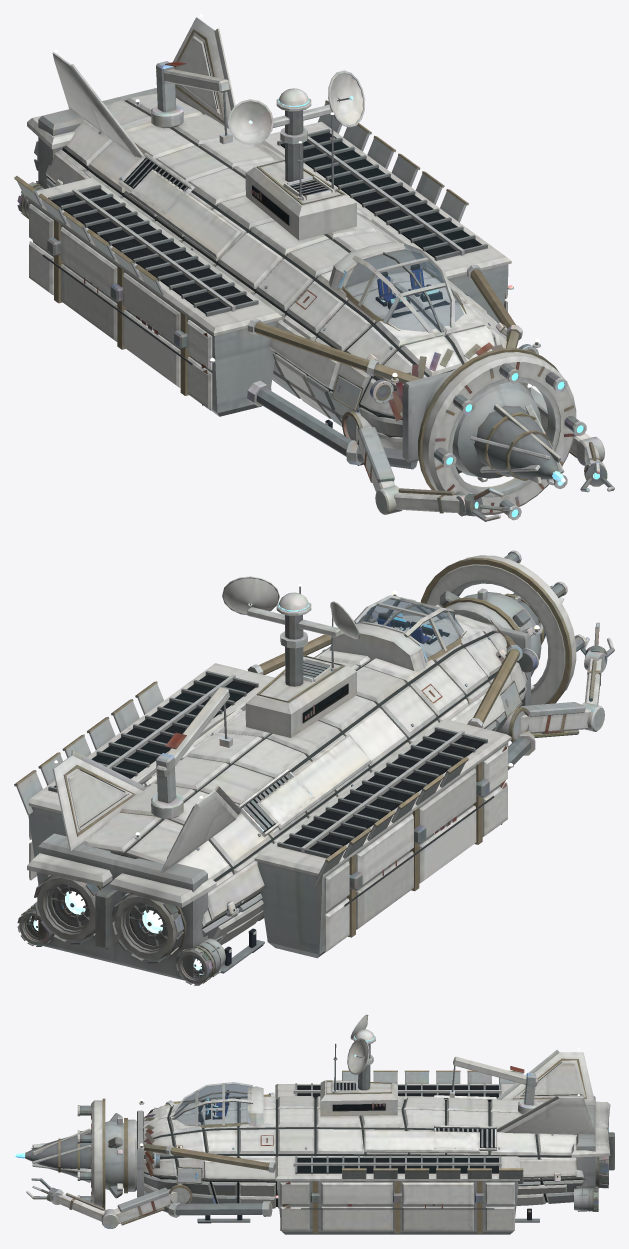
File: prospector_miner.glb
3 renders of one model, top to bottom at view 1: azimuth 30°, elevation 25°; view 2: azimuth 150°, elevation 25°; view 3: azimuth 270°, elevation 25°, orthographic. The views are drawn at different scales.
Parts seen in each view (by area): view 1: prospector_miner_hull, prospector_miner_glass; view 2: prospector_miner_hull, prospector_miner_glass, prospector_miner_plasma; view 3: prospector_miner_hull, prospector_miner_glass.
Part boxes in pixels (bbox=[...]): prospector_miner_hull: bbox=[14, 14, 614, 521]; prospector_miner_glass: bbox=[345, 246, 463, 331]; prospector_miner_hull: bbox=[14, 550, 614, 985]; prospector_miner_glass: bbox=[357, 598, 463, 657]; prospector_miner_plasma: bbox=[29, 891, 203, 974]; prospector_miner_hull: bbox=[15, 1014, 614, 1234]; prospector_miner_glass: bbox=[175, 1084, 251, 1124].
Size of the model in its own units: 9.76 by 8.28 by 24.89.
Materials: 3 (1 with a texture image).
